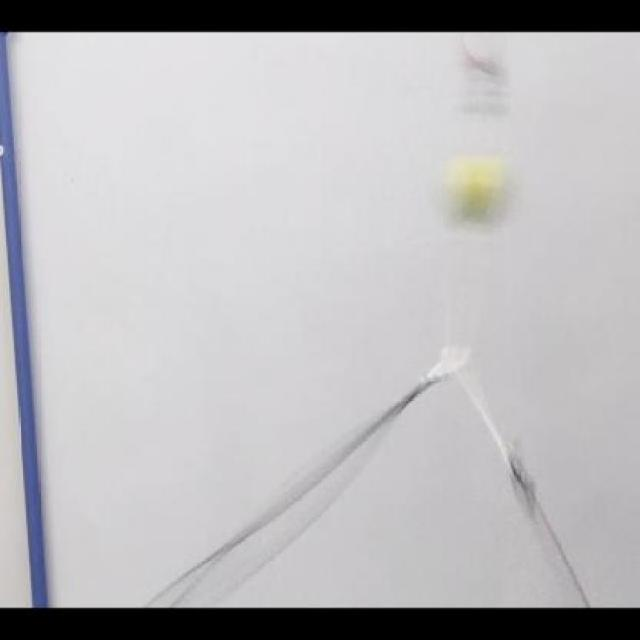baseball: (442, 147, 518, 241)
